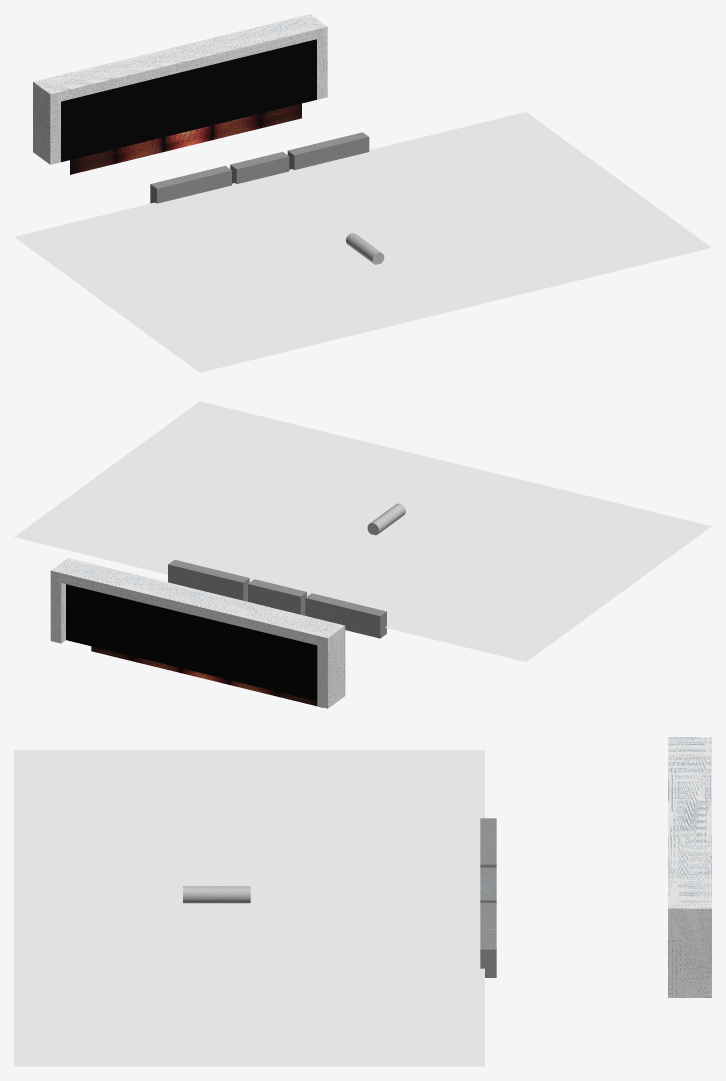
The model's file is Quantum2.dae.
3 renders of one model, top to bottom at view 1: azimuth 30°, elevation 25°; view 2: azimuth 150°, elevation 25°; view 3: azimuth 270°, elevation 25°, orthographic. The views are drawn at different scales.
Parts seen in each view (by area): view 1: group_6, wall, group_8, group_13, group_9, group_0, group_1, group_2, group_10; view 2: group_6, ID135, group_8, group_9, group_0, group_1, group_13, group_10, point, ID48, group_2; view 3: group_6, group_8, group_10, group_1, ID48, group_0, group_2.
Boxes of the visible parts, x1,y1,x2,y2 form: group_6: [14, 112, 711, 372]; wall: [61, 39, 316, 162]; group_8: [44, 16, 316, 101]; group_13: [70, 103, 301, 174]; group_9: [33, 79, 60, 164]; group_0: [150, 166, 231, 203]; group_1: [287, 132, 369, 170]; group_2: [230, 152, 289, 183]; group_10: [300, 14, 327, 99]; group_6: [14, 401, 711, 661]; ID135: [66, 584, 317, 701]; group_8: [61, 560, 334, 645]; group_9: [317, 623, 345, 708]; group_0: [305, 593, 386, 638]; group_1: [168, 559, 249, 601]; group_13: [91, 646, 322, 707]; group_10: [50, 558, 78, 643]; point: [248, 584, 300, 614]; ID48: [367, 503, 405, 535]; group_2: [248, 579, 306, 615]; group_6: [14, 750, 484, 1066]; group_8: [668, 743, 711, 902]; group_10: [668, 902, 711, 997]; group_1: [480, 903, 496, 977]; ID48: [183, 886, 250, 903]; group_0: [480, 818, 496, 867]; group_2: [480, 867, 496, 902].
Size of the model in its own units: 518 by 482 by 83.56.
